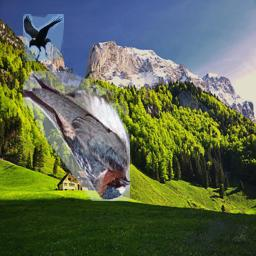Crow: (23, 14, 64, 61)
Swallow: (23, 71, 130, 201)
